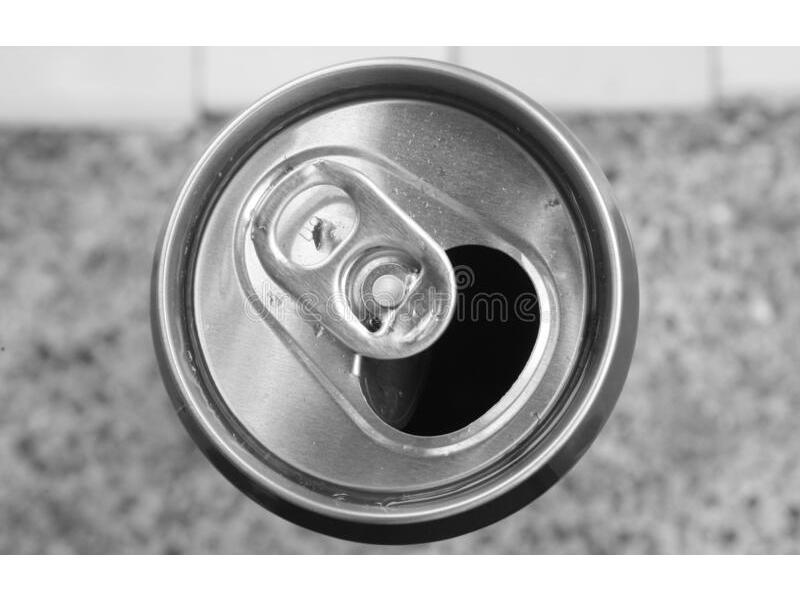can: (142, 52, 650, 551)
